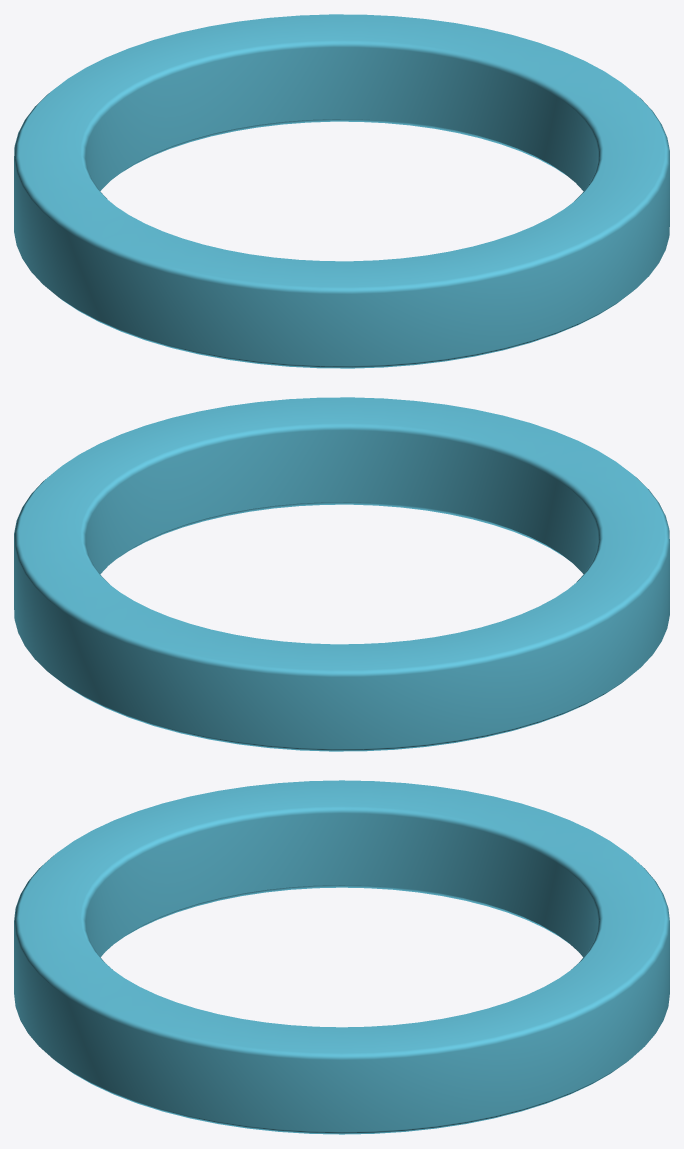
The picture shows the model from 3 angles, top to bottom: view 1: azimuth 30°, elevation 25°; view 2: azimuth 150°, elevation 25°; view 3: azimuth 270°, elevation 25°; orthographic projection.
Parts seen in each view (by area): view 1: seal_body; view 2: seal_body; view 3: seal_body.
Boxes of the visible parts, x1,y1,x2,y2 form: seal_body: (14,14,669,368); seal_body: (14,397,669,751); seal_body: (14,780,669,1134).
Bounding box in the file's own units: 0.073 × 0.01 × 0.073.
